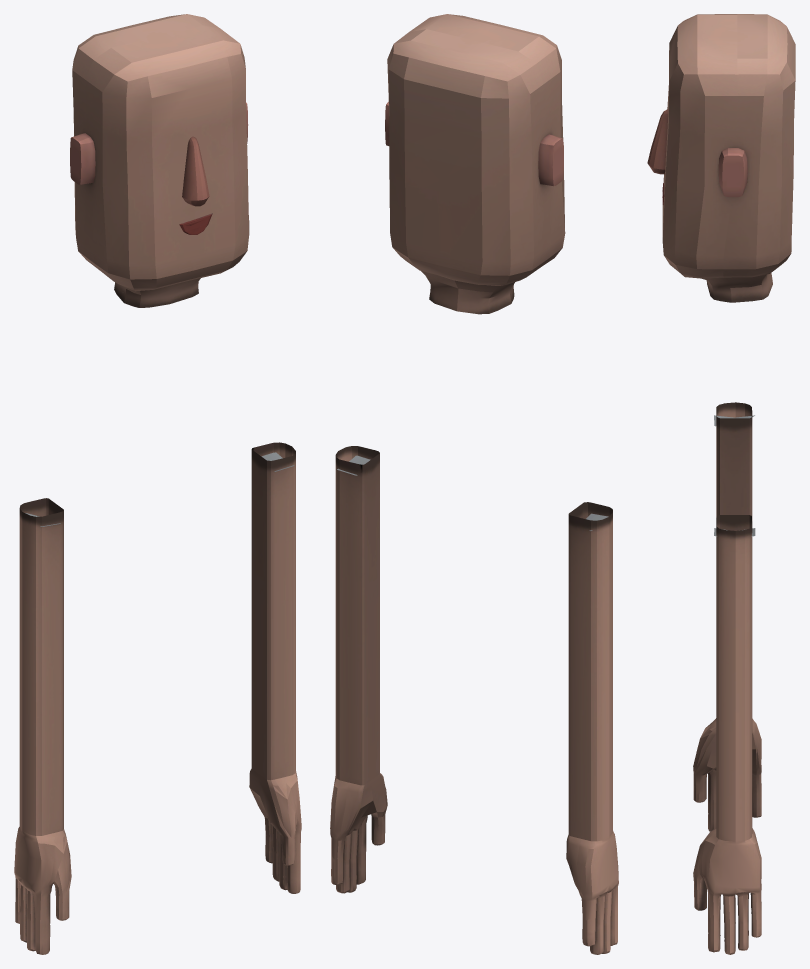
File: skin.obj
The picture shows the model from 3 angles, left to right: view 1: azimuth 30°, elevation 25°; view 2: azimuth 150°, elevation 25°; view 3: azimuth 270°, elevation 25°; orthographic projection. The views are drawn at different scales.
Parts seen in each view (by area): view 1: Body; view 2: Body; view 3: Body.
Boxes of the visible parts, x1,y1,x2,y2 form: Body: [14, 14, 301, 954]; Body: [330, 14, 618, 954]; Body: [647, 14, 795, 954].
Size of the model in its own units: 0.4117 by 1.28 by 0.2012.
Materials: 1 (1 with a texture image).
